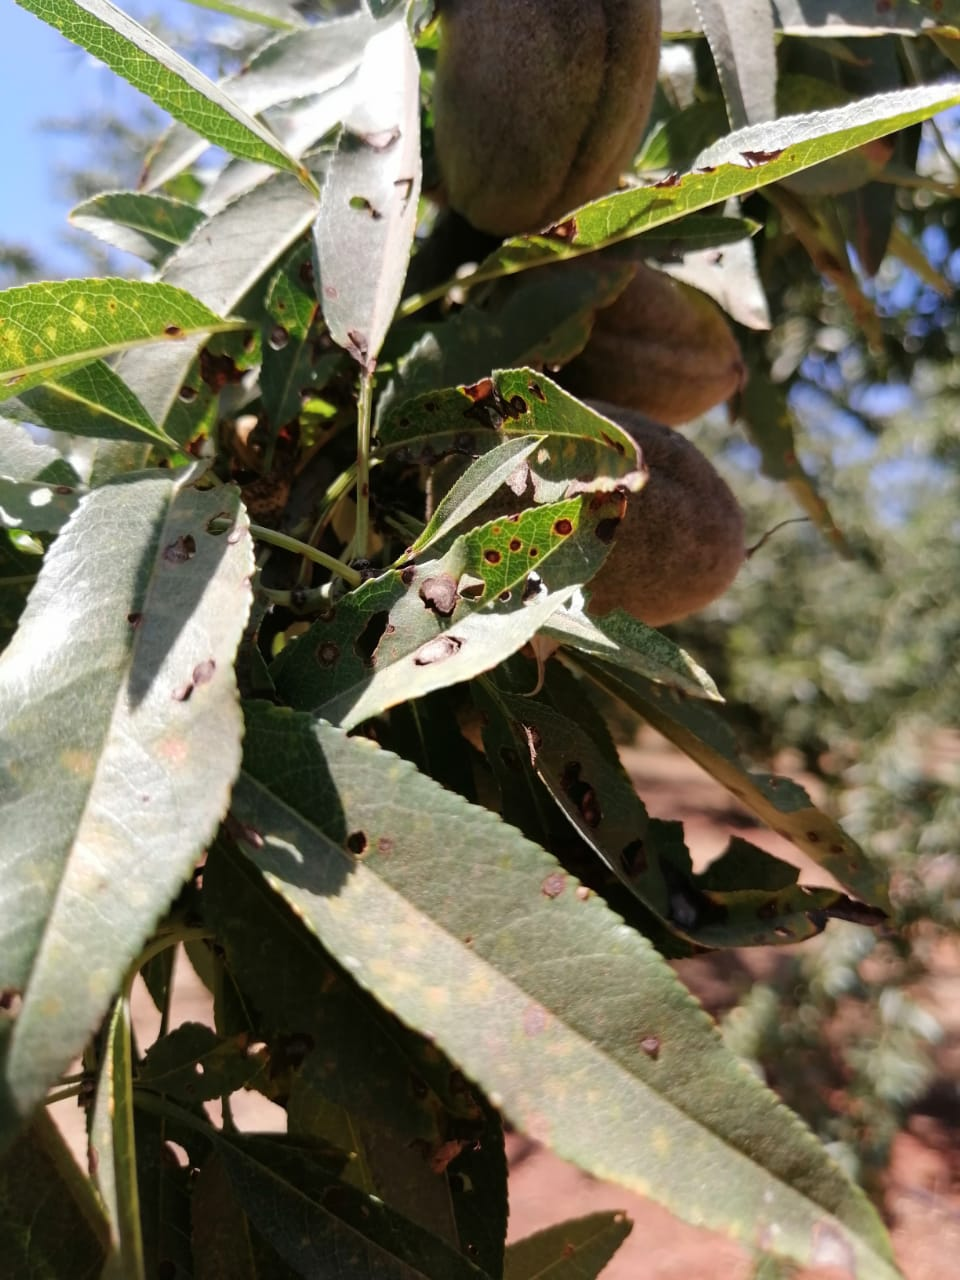coryneum: (232, 696, 910, 1275), (1, 469, 256, 1133), (448, 76, 960, 285), (257, 487, 630, 731), (313, 19, 422, 369)
